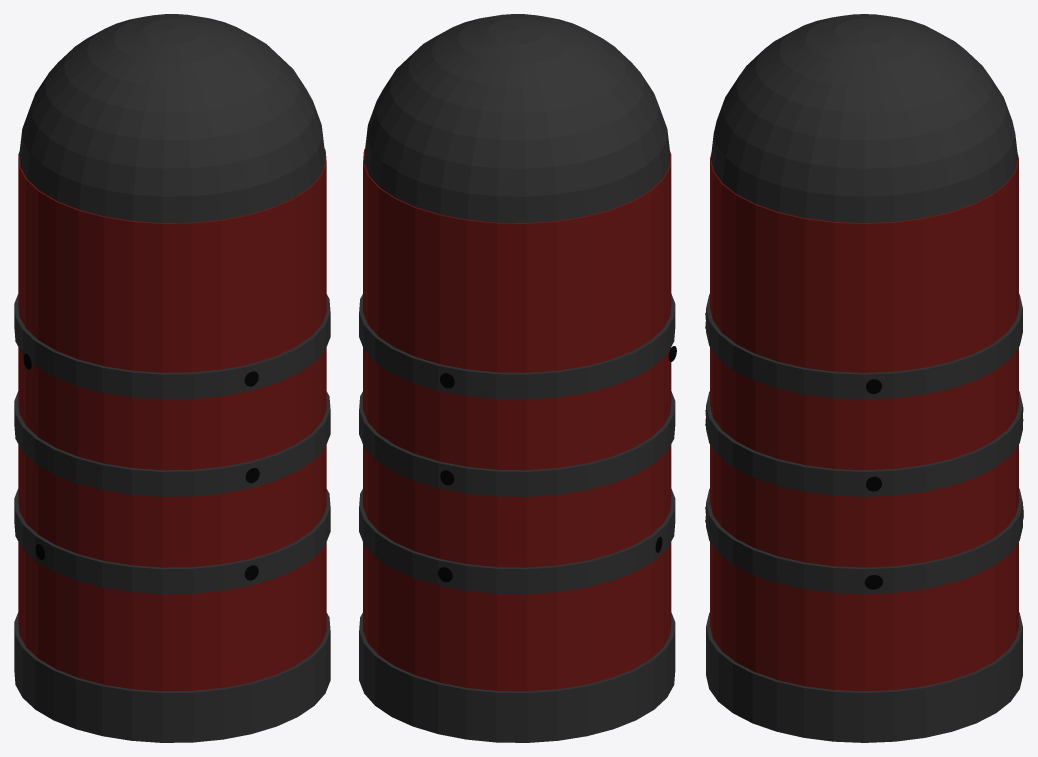
Rendered from silo.glb.
3 renders of one model, left to right at view 1: azimuth 30°, elevation 25°; view 2: azimuth 150°, elevation 25°; view 3: azimuth 270°, elevation 25°, orthographic.
Parts seen in each view (by area): view 1: Silo, Top, BottomRung, Rung1, Rung2, Rung3; view 2: Silo, Top, BottomRung, Rung2, Rung1, Rung3; view 3: Silo, Top, BottomRung, Rung2, Rung1, Rung3.
Boxes of the visible parts, bbox=[...] form: Silo: bbox=[18, 148, 326, 691]; Top: bbox=[19, 14, 325, 223]; BottomRung: bbox=[14, 612, 330, 742]; Rung1: bbox=[14, 391, 330, 496]; Rung2: bbox=[14, 294, 330, 399]; Rung3: bbox=[14, 489, 330, 594]; Silo: bbox=[363, 149, 671, 691]; Top: bbox=[364, 14, 670, 223]; BottomRung: bbox=[359, 612, 675, 742]; Rung2: bbox=[359, 294, 675, 399]; Rung1: bbox=[359, 391, 675, 496]; Rung3: bbox=[359, 489, 675, 594]; Silo: bbox=[710, 154, 1018, 691]; Top: bbox=[710, 14, 1018, 223]; BottomRung: bbox=[706, 612, 1022, 742]; Rung2: bbox=[706, 294, 1022, 399]; Rung1: bbox=[706, 391, 1022, 496]; Rung3: bbox=[706, 488, 1022, 594].
Bounding box in the file's own units: 15.49 × 33.26 × 14.82.
